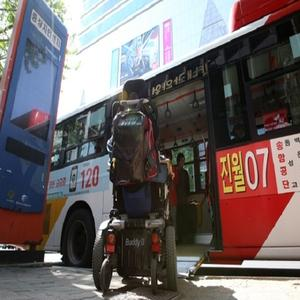07bus: (56, 8, 300, 264)
backdoor: (122, 77, 231, 254)
